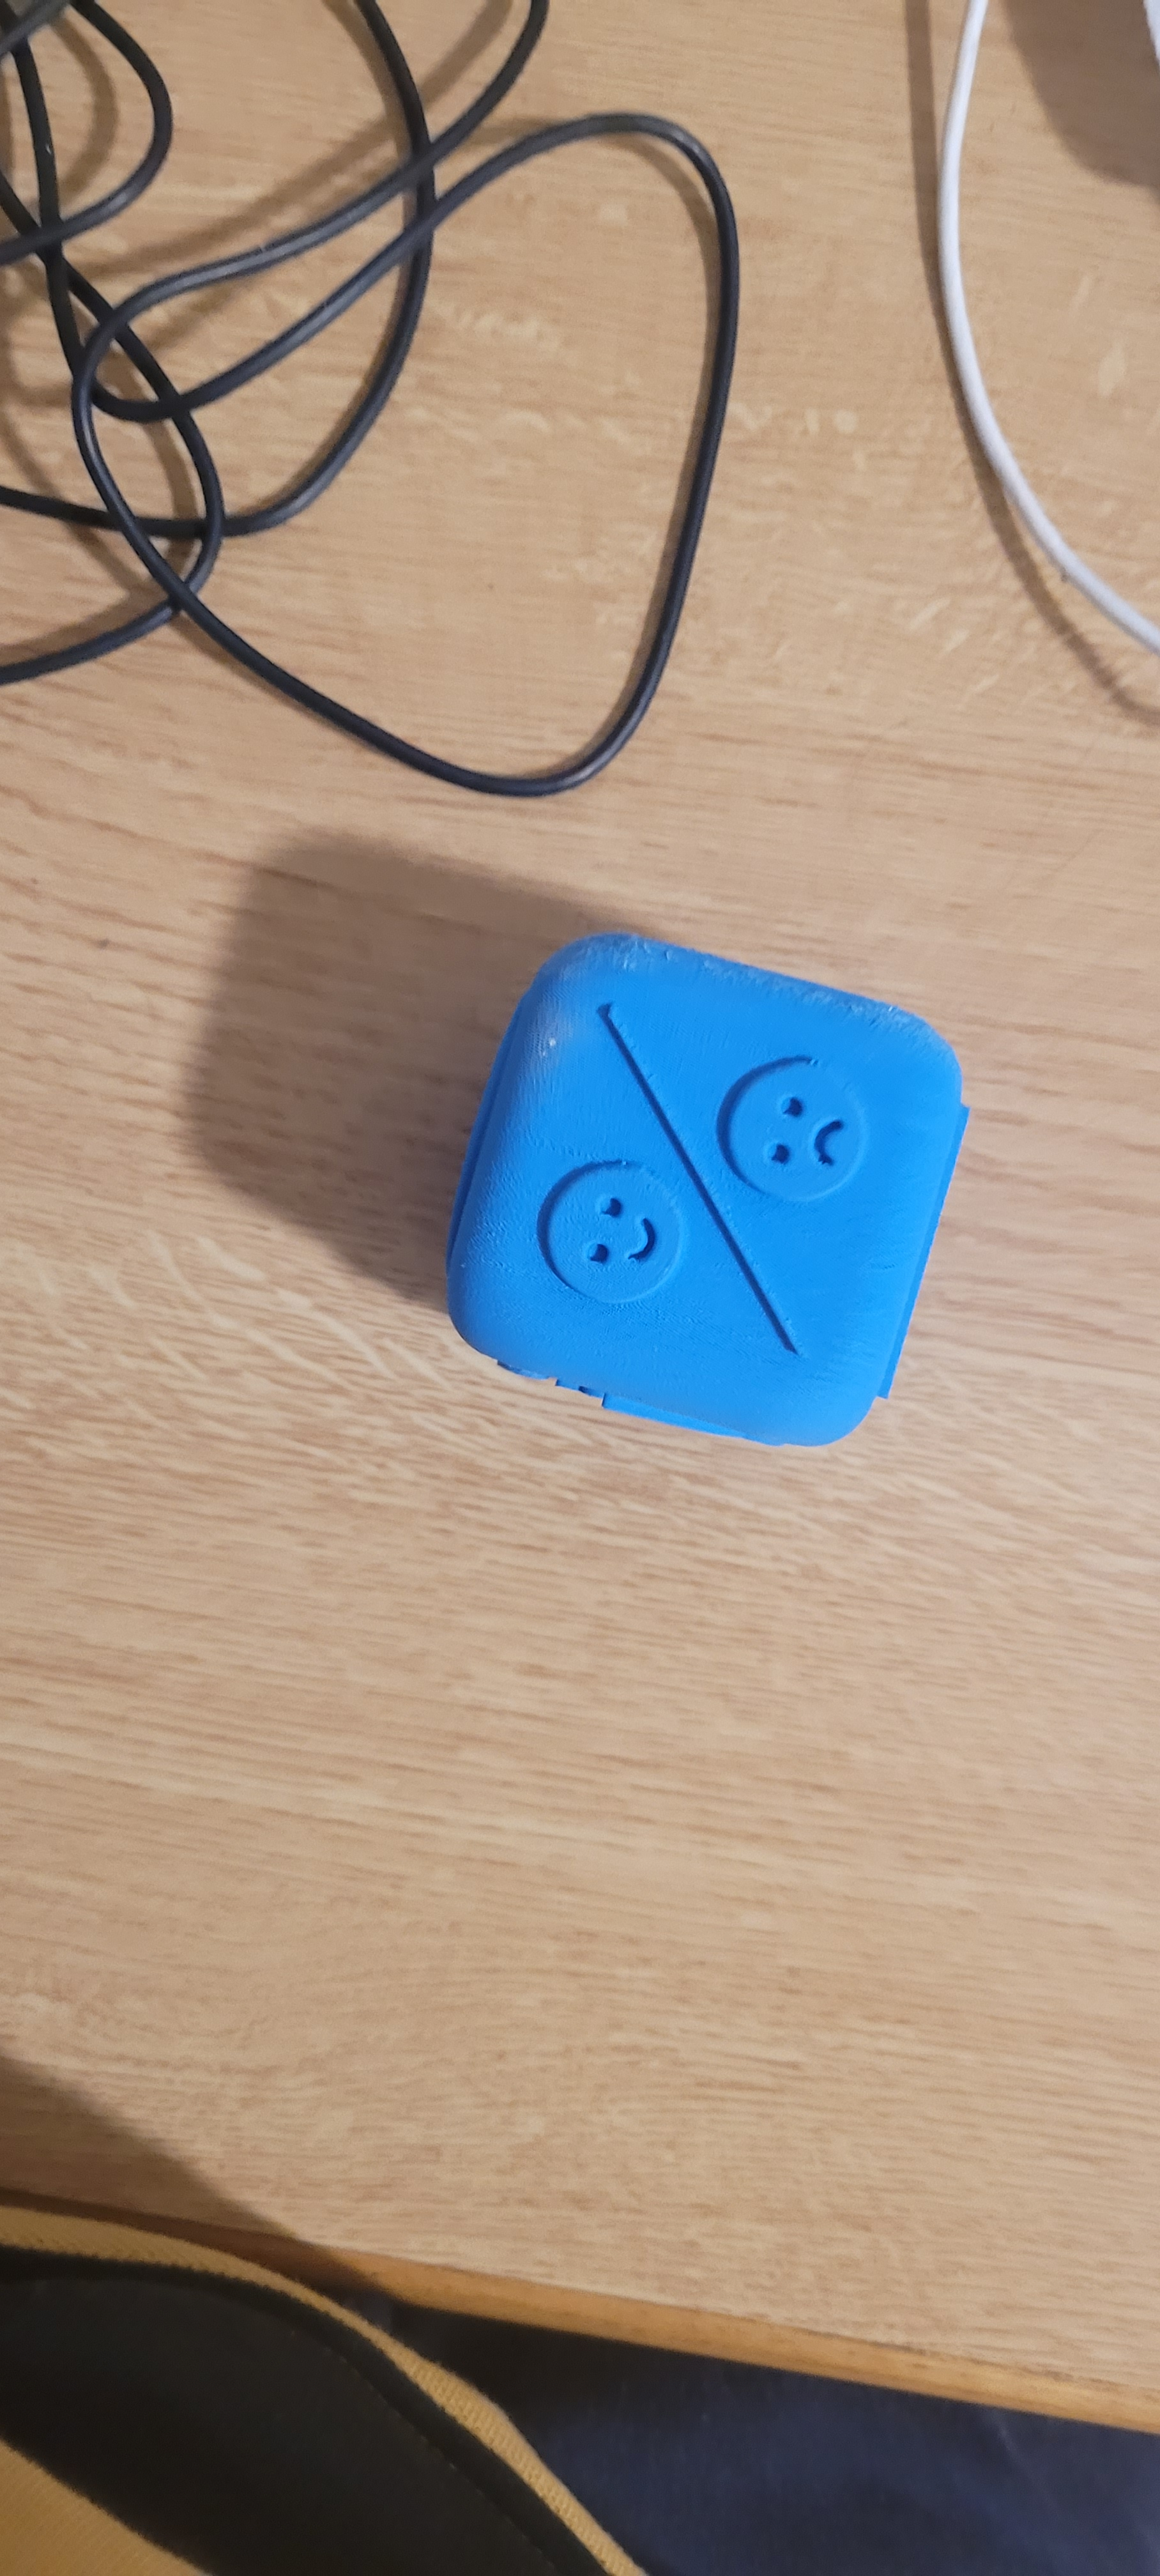Like/Dislike: (529, 923, 973, 1418)
